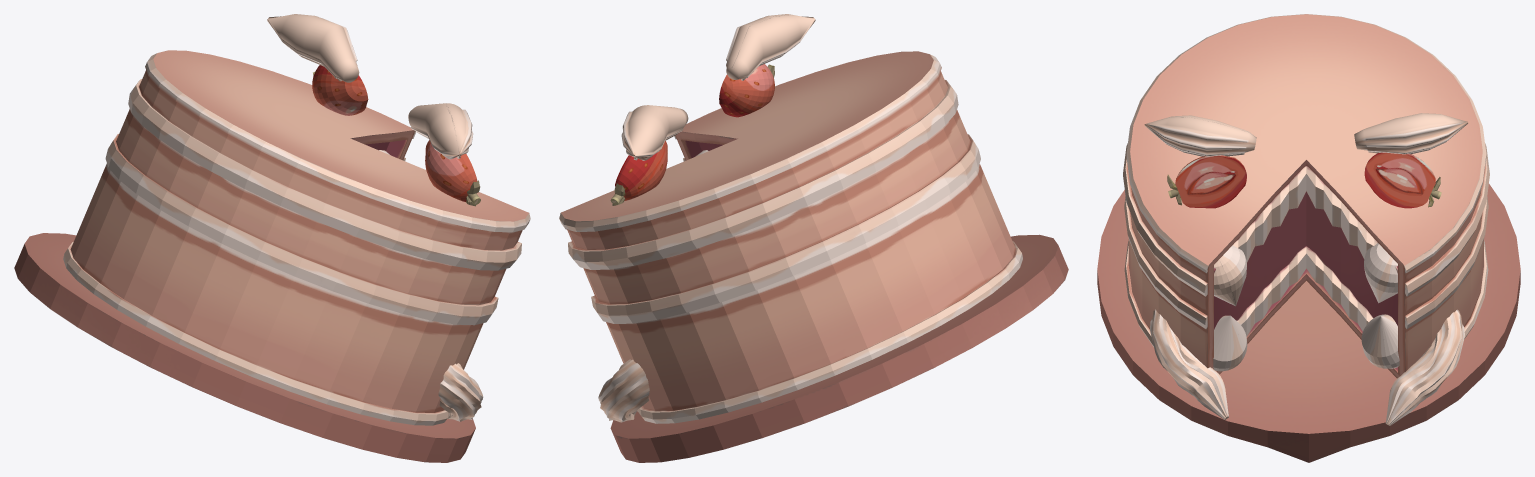
Rendered from taart.fbx.
3 views of the same model, side by side, from view 1: azimuth 30°, elevation 25°; view 2: azimuth 150°, elevation 25°; view 3: azimuth 270°, elevation 25° (orthographic). The views are drawn at different scales.
Parts seen in each view (by area): view 1: Cylinder, Cylinder.003, Cone.005, Cone.004, Sphere.001, Sphere, Circle; view 2: Cylinder, Cylinder.003, Cone.004, Cone.005, Circle.001, Sphere, Sphere.001; view 3: Cylinder, Cylinder.003, Circle.001, Circle, Cone.005, Cone.004, Sphere.001, Sphere, Cone.003, Cone.002, Cone, Cone.001.
Boxes of the visible parts, box(x1,y1,x2,y2) form: Cylinder: box(63, 50, 530, 425); Cylinder.003: box(14, 233, 475, 462); Cone.005: box(267, 14, 359, 82); Cone.004: box(408, 103, 473, 159); Sphere.001: box(312, 65, 368, 115); Sphere: box(425, 140, 477, 201); Circle: box(438, 363, 483, 421); Cylinder: box(559, 51, 1022, 423); Cylinder.003: box(610, 234, 1068, 462); Cone.004: box(726, 14, 815, 80); Cone.005: box(621, 105, 688, 160); Circle.001: box(598, 359, 649, 422); Sphere: box(719, 64, 774, 117); Sphere.001: box(615, 141, 667, 200); Cylinder: box(1123, 14, 1489, 378); Cylinder.003: box(1097, 184, 1520, 462); Circle.001: box(1385, 309, 1464, 425); Circle: box(1149, 309, 1228, 419); Cone.005: box(1354, 113, 1467, 154); Cone.004: box(1144, 115, 1256, 156); Sphere.001: box(1364, 152, 1435, 208); Sphere: box(1175, 155, 1246, 208); Cone.003: box(1361, 314, 1399, 368); Cone.002: box(1213, 315, 1247, 371); Cone: box(1214, 245, 1246, 306); Cone.001: box(1364, 243, 1397, 303).
Size of the model in its own units: 1066 by 970 by 1070.
